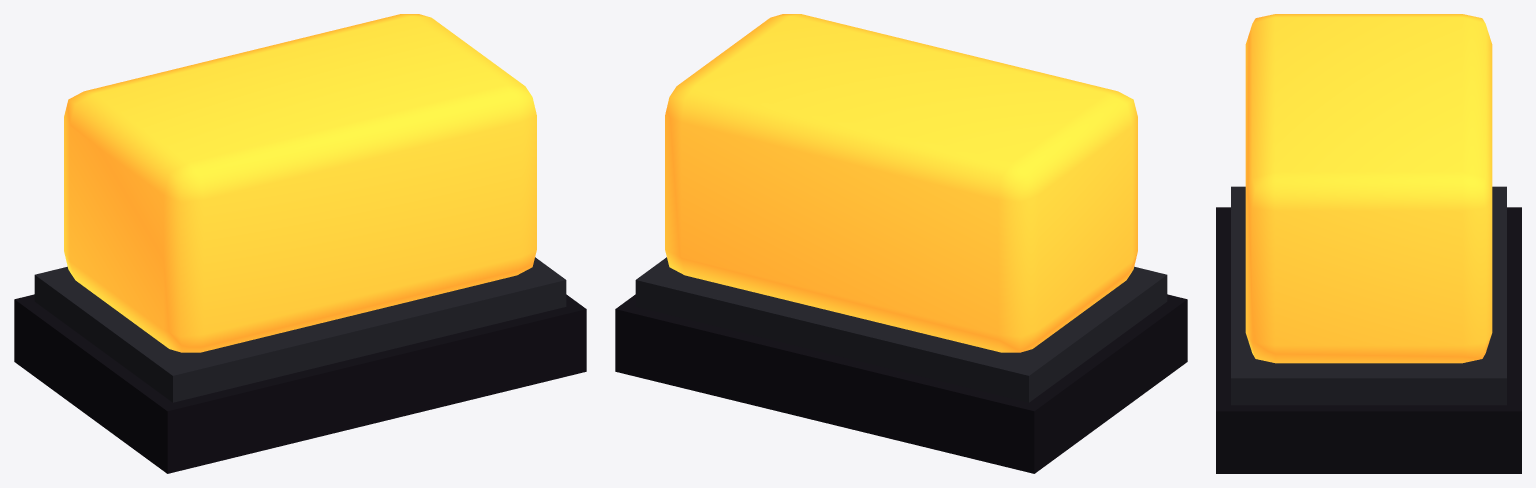
Rendered from amber_sarcophagus.glb.
3 renders of one model, left to right at view 1: azimuth 30°, elevation 25°; view 2: azimuth 150°, elevation 25°; view 3: azimuth 270°, elevation 25°, orthographic.
Parts seen in each view (by area): view 1: amber_sarcophagus; view 2: amber_sarcophagus; view 3: amber_sarcophagus.
Part boxes in pixels (x1,y1,x2,y2): amber_sarcophagus: (14, 14, 586, 473); amber_sarcophagus: (615, 14, 1187, 473); amber_sarcophagus: (1216, 14, 1521, 473).
Size of the model in its own units: 0.98 by 0.62 by 0.62.
